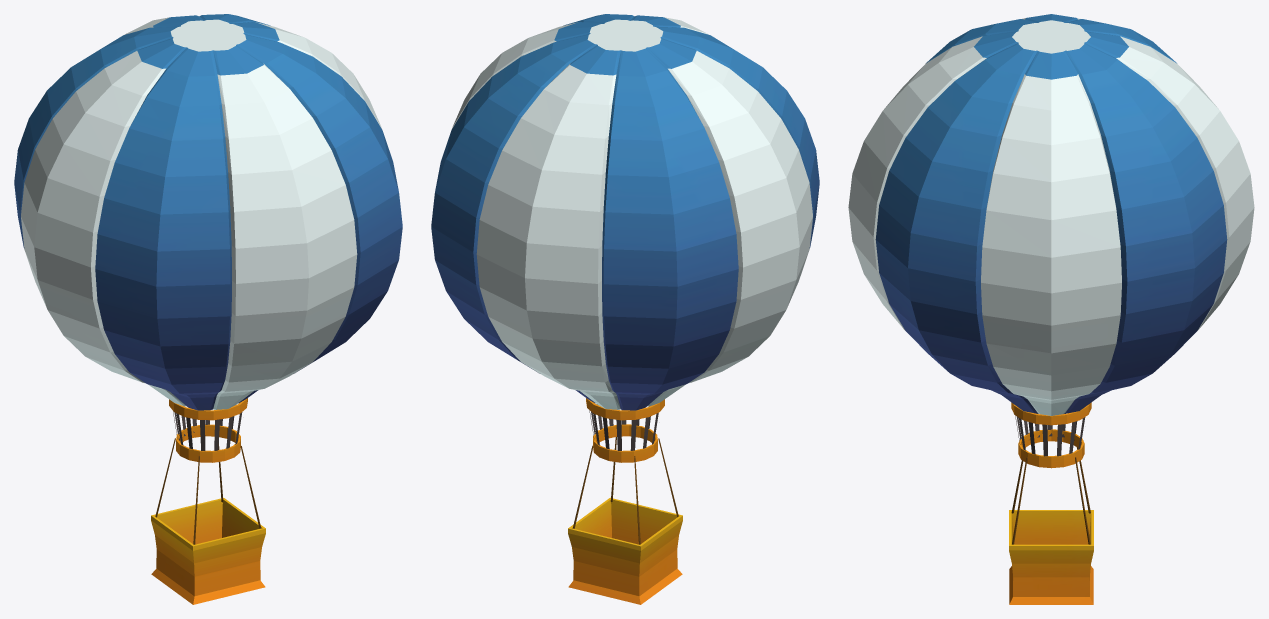
The model's file is Balloon_2.fbx.
3 views of the same model, side by side, from view 1: azimuth 30°, elevation 25°; view 2: azimuth 150°, elevation 25°; view 3: azimuth 270°, elevation 25° (orthographic).
Parts seen in each view (by area): view 1: Balloon_2; view 2: Balloon_2; view 3: Balloon_2.
Part boxes in pixels (x1,y1,x2,y2): Balloon_2: (14,14,402,604); Balloon_2: (431,14,819,604); Balloon_2: (848,14,1254,604).
Bounding box in the file's own units: 4.92 × 7.36 × 4.92.
